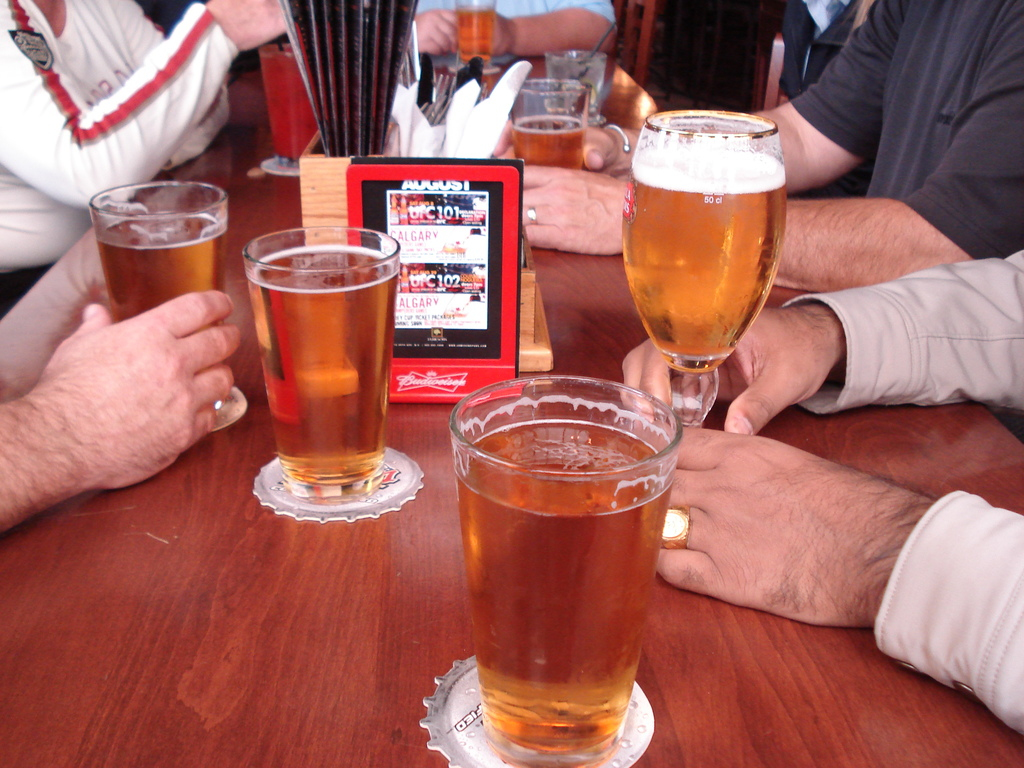Beer: (460, 415, 672, 765), (244, 240, 397, 489), (621, 145, 784, 367), (101, 208, 223, 320)
